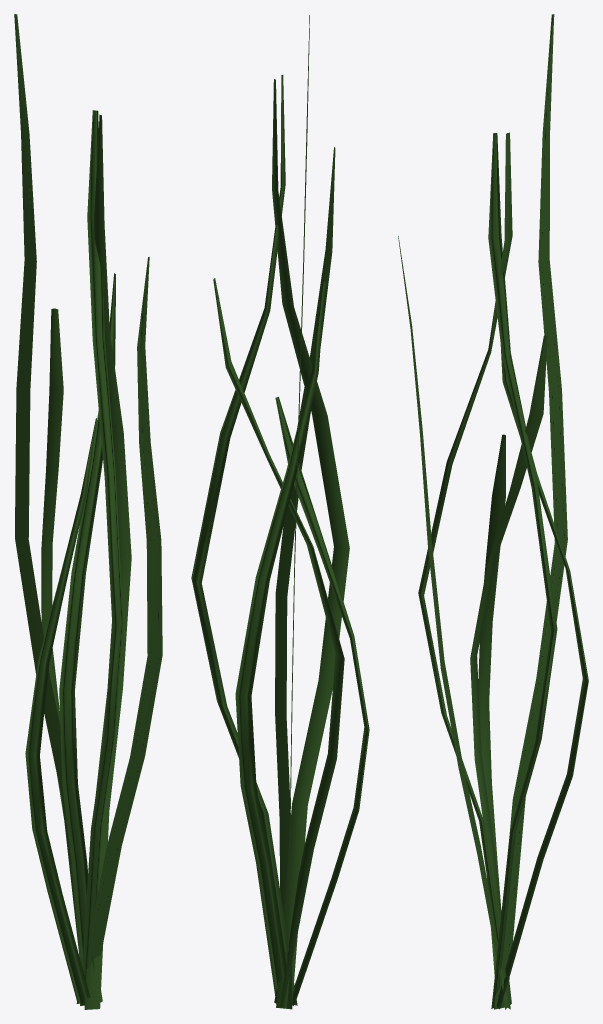
Rendered from kelp 3.obj.
3 renders of one model, left to right at view 1: azimuth 30°, elevation 25°; view 2: azimuth 150°, elevation 25°; view 3: azimuth 270°, elevation 25°, orthographic. The views are drawn at different scales.
Parts seen in each view (by area): view 1: node_id71; view 2: node_id71; view 3: node_id71.
Part boxes in pixels (box(x1,y1,x2,y2)): node_id71: box(14, 14, 162, 1009); node_id71: box(191, 15, 369, 1009); node_id71: box(398, 14, 588, 1009).
Bounding box in the file's own units: 1.47 × 10.08 × 1.8.
